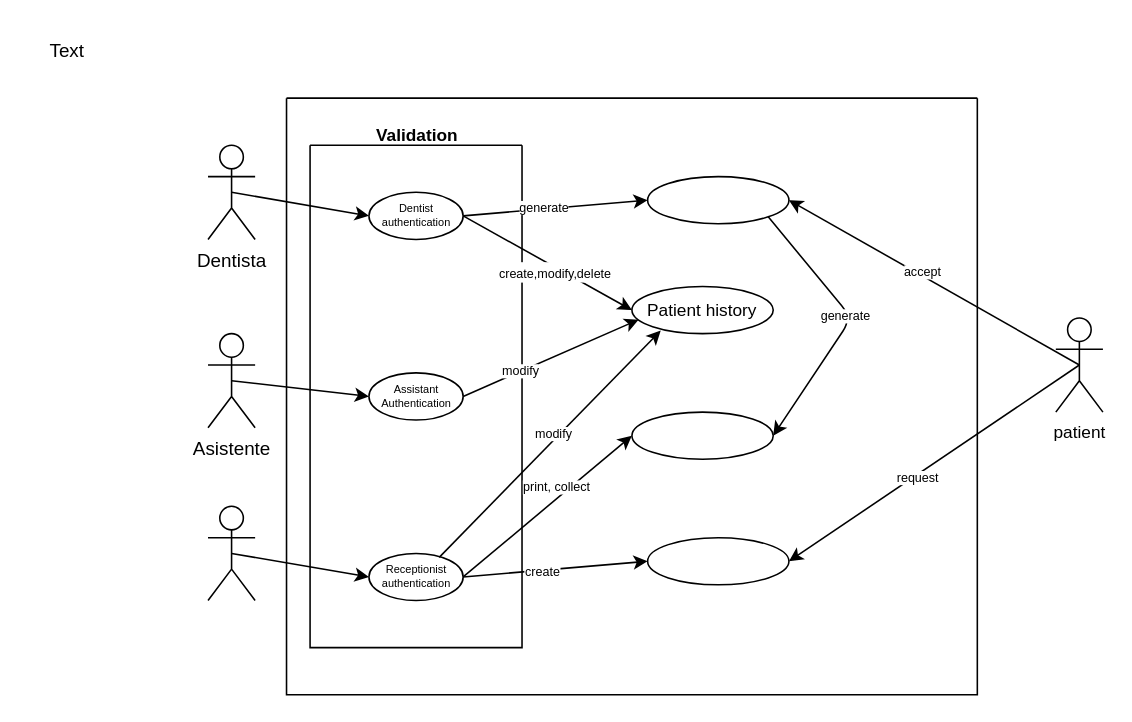
Some shapes in this 1132 by 722 pixel diagram are drawn without their labels. The centre of each missing label's shape, as x and y in pixels:
"Appointments" belongs at (717,560).
"Invoice" belongs at (701,435).
"Quotes" belongs at (717,199).
"Recepcionista" belongs at (230,553).
